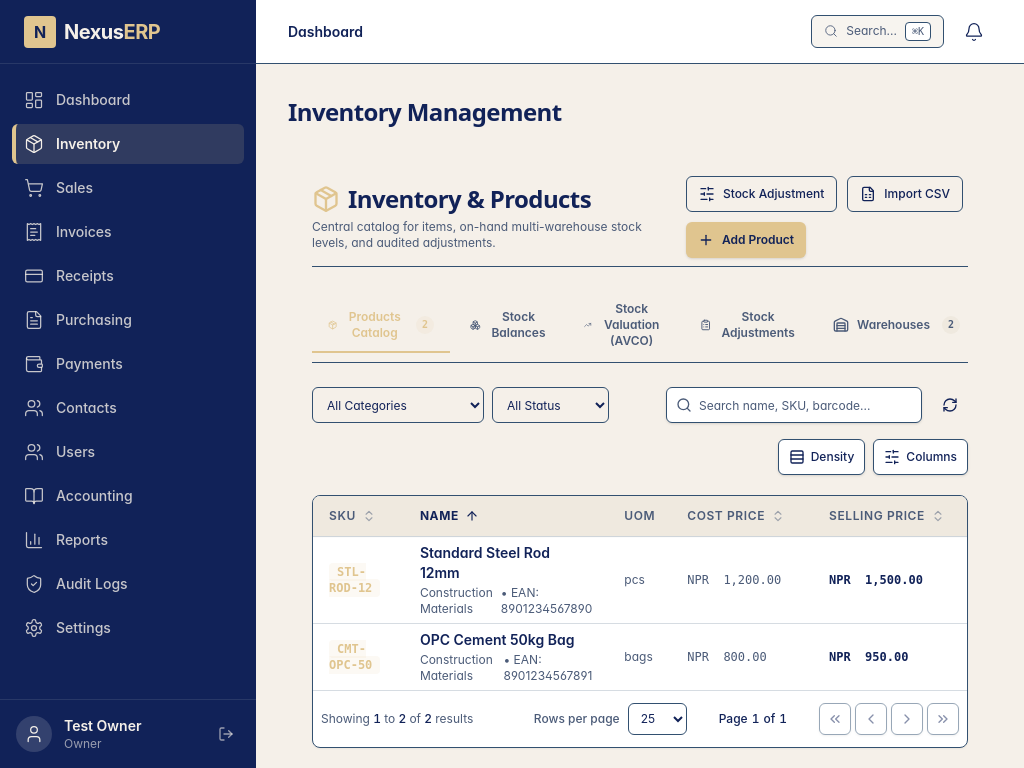
Test: InventoryIndex Component › opens Stock Adjustment modal and posts adjustment
Later steps or results of the test are not shown.
Expected: the text "Standard Steel Rod 12mm" is shown, [420,544,550,580]
Click the button "Stock Adjustment" at (762, 194), box [686,176,837,212]
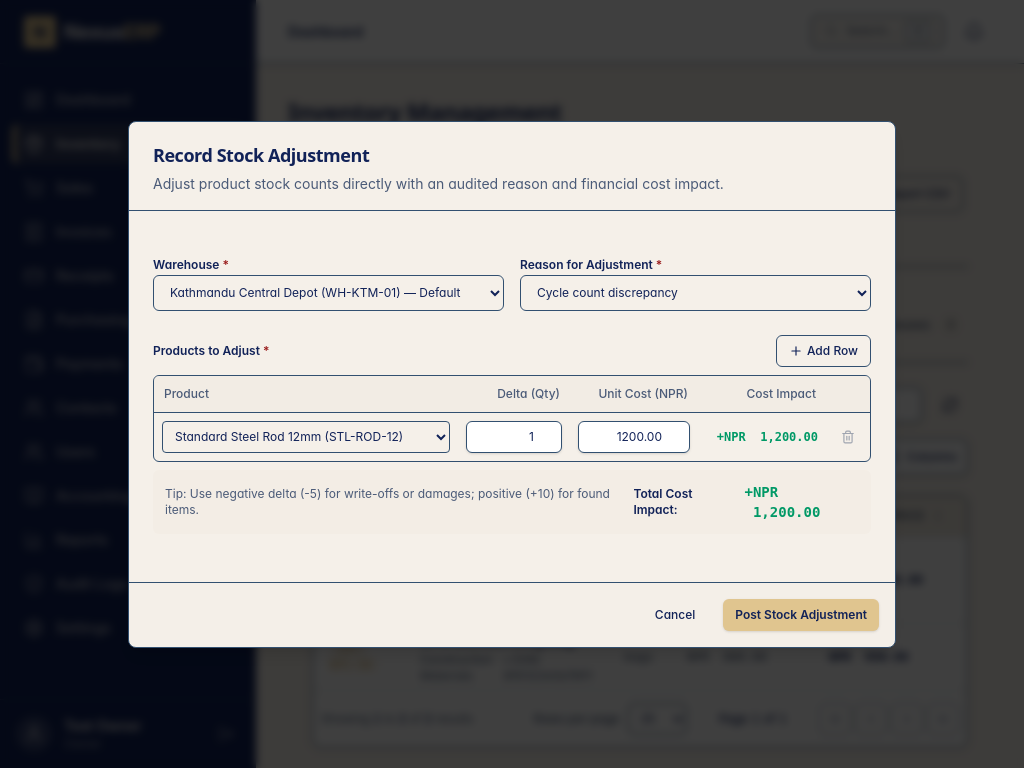
Expected: the heading "Record Stock Adjustment" is shown, [153,142,369,166]
